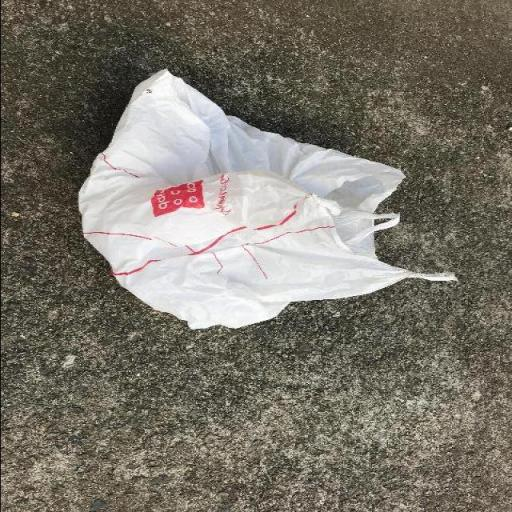plastic-bag: (74, 64, 401, 330)
